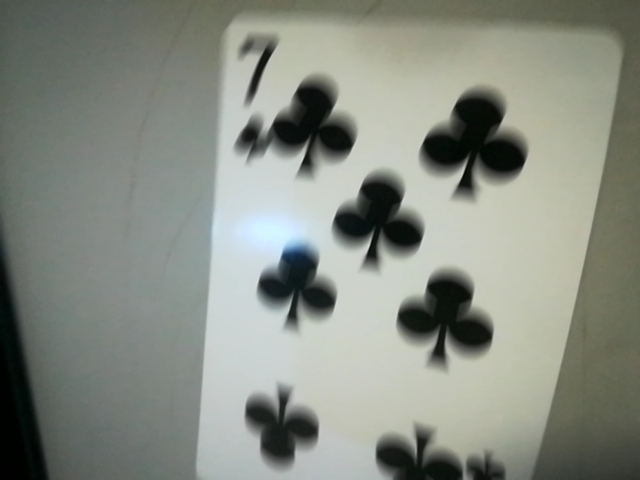mh 7: (220, 24, 281, 168)
